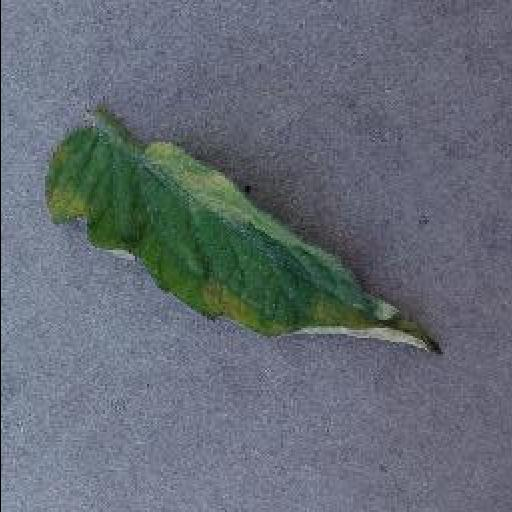disease_tomato: (40, 132, 446, 354)
